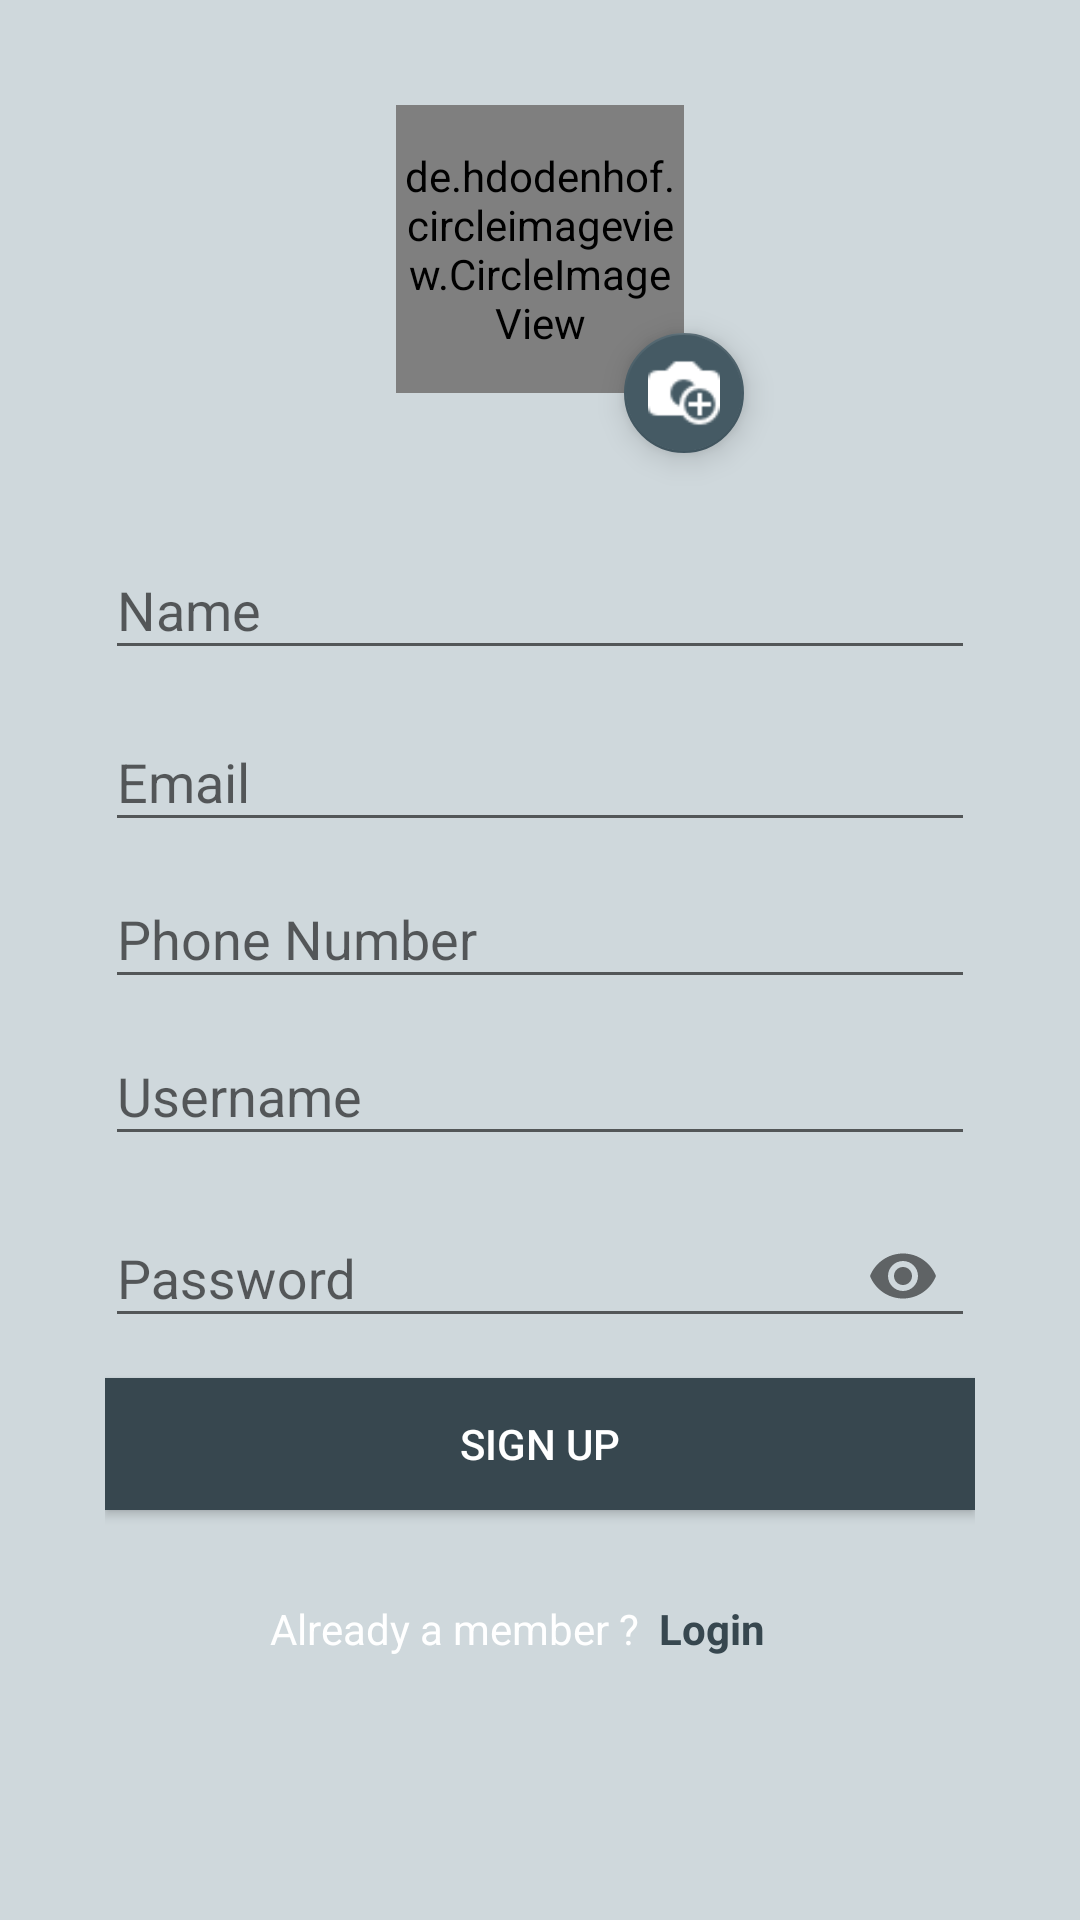

Screen size 1080px×1920px. Icon name, then its center in pixels as point (x, y):
add camera: point (684, 393)
